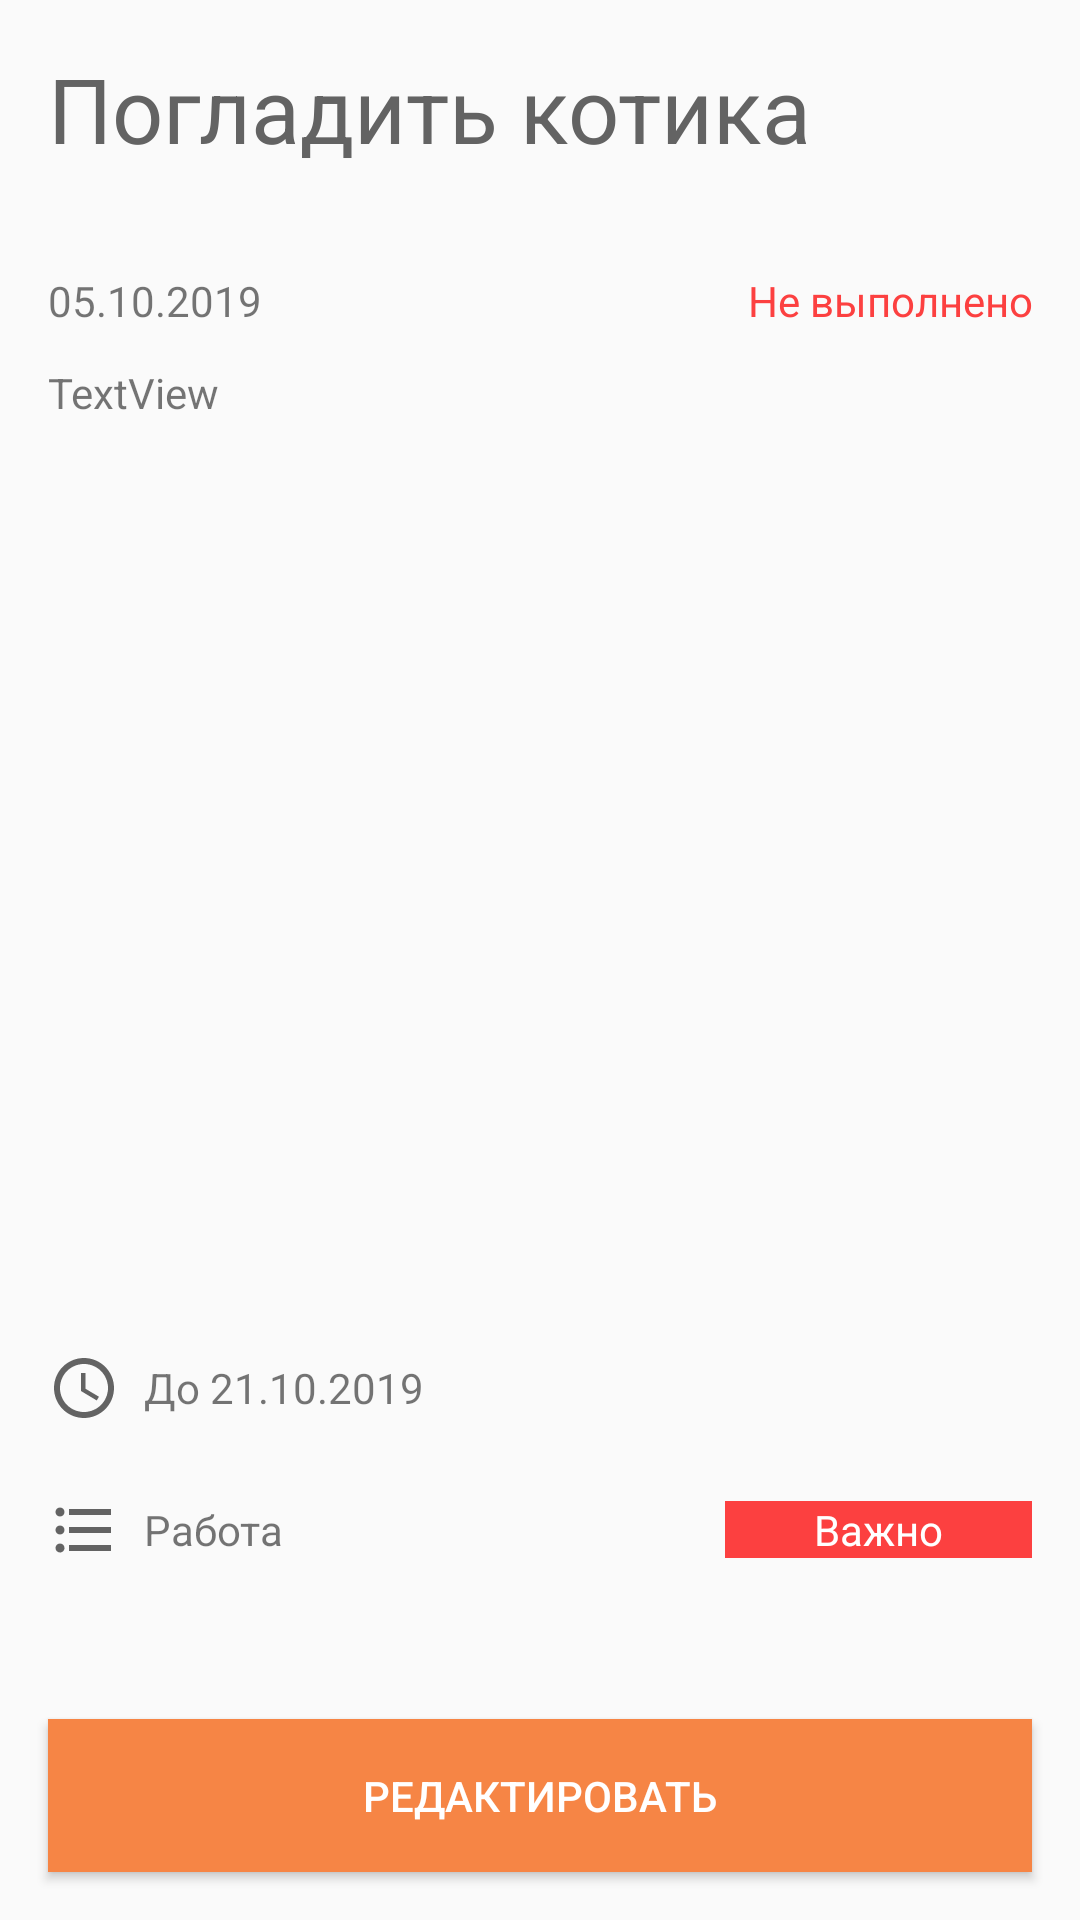

Icons on this 1080 x 1920 Android screen, each with the point to tap as (x,y):
category: (83,1530)
time: (84,1388)
